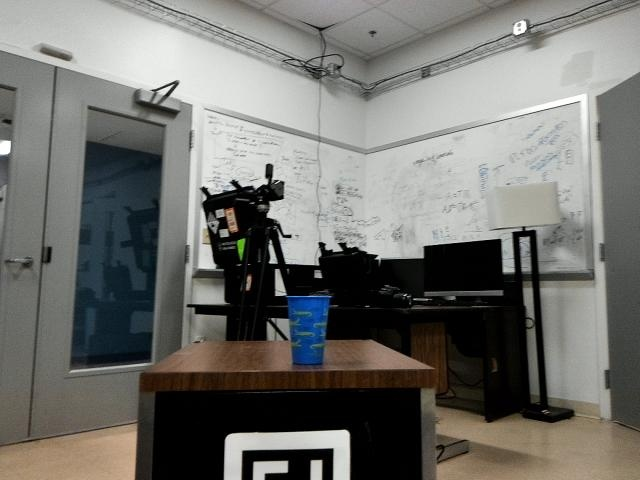water_cup: (275, 287, 338, 369)
